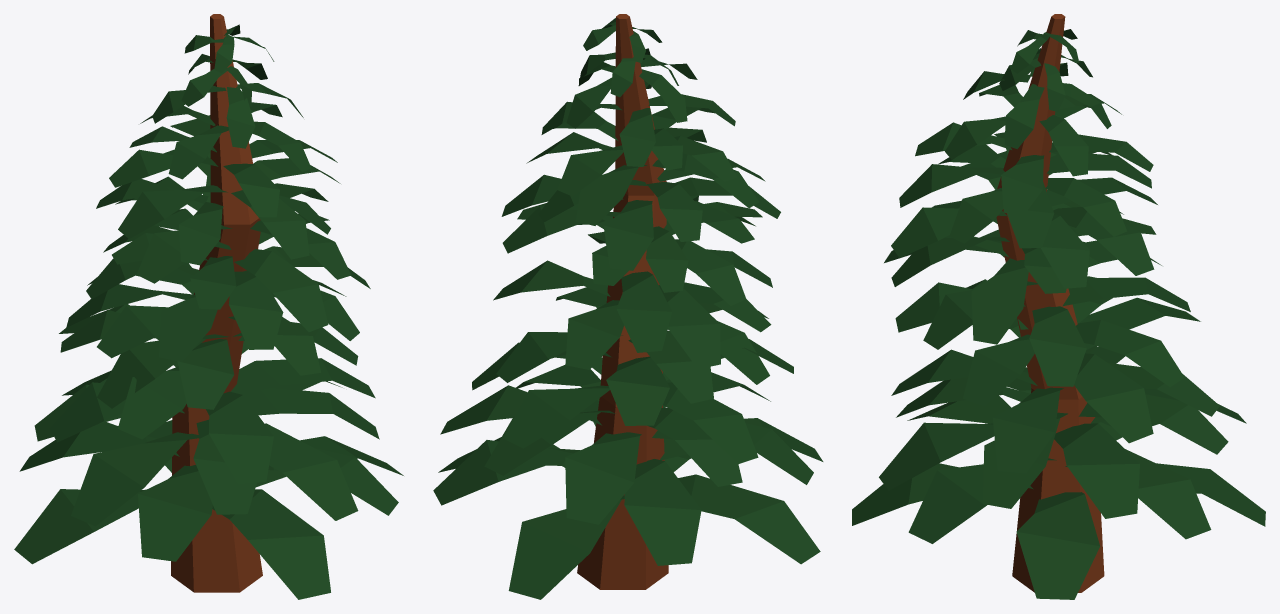
File: Tree.fbx
The picture shows the model from 3 angles, left to right: view 1: azimuth 30°, elevation 25°; view 2: azimuth 150°, elevation 25°; view 3: azimuth 270°, elevation 25°; orthographic projection.
Parts seen in each view (by area): view 1: Cylinder, Plane.003, Plane.011, Plane.007, Plane.013, Plane.009, Plane, Plane.031, Plane.017, Plane.032, Plane.021, Plane.071 (+37 smaller); view 2: Cylinder, Plane.004, Plane.002, Plane.008, Plane, Plane.012, Plane.029, Plane.019, Plane.015, Plane.076, Plane.006, Plane.068 (+39 smaller); view 3: Cylinder, Plane.001, Plane.010, Plane.016, Plane.014, Plane.005, Plane.009, Plane.006, Plane.024, Plane.035, Plane.020, Plane.022 (+33 smaller).
Boxes of the visible parts, x1,y1,x2,y2 form: Cylinder: (171,14,262,592); Plane.003: (212,489,330,599); Plane.011: (71,432,199,526); Plane.007: (138,465,212,561); Plane.013: (206,391,273,484); Plane.009: (265,423,358,520); Plane: (14,489,145,564); Plane.031: (234,249,328,331); Plane.017: (117,366,186,439); Plane.032: (228,270,283,349); Plane.021: (177,339,234,409); Plane.071: (193,419,256,514); Cylinder: (577,14,668,589); Plane.004: (624,459,701,565); Plane.002: (508,495,624,599); Plane.008: (565,432,641,524); Plane: (678,474,820,564); Plane.012: (503,385,609,448); Plane.029: (616,271,671,352); Plane.019: (606,356,669,425); Plane.015: (663,382,758,464); Plane.076: (659,285,720,368); Plane.006: (433,440,580,505); Plane.068: (647,407,742,486); Cylinder: (996,14,1104,592); Plane.001: (1016,492,1100,599); Plane.010: (1054,423,1139,518); Plane.016: (1074,353,1153,443); Plane.014: (993,387,1063,473); Plane.005: (908,458,1056,543); Plane.009: (879,422,994,490); Plane.006: (1065,449,1211,539); Plane.024: (1029,306,1086,386); Plane.035: (971,258,1028,344); Plane.020: (1076,320,1184,386); Plane.022: (963,334,1034,405).
Size of the model in its own units: 1141 by 1649 by 1105.
